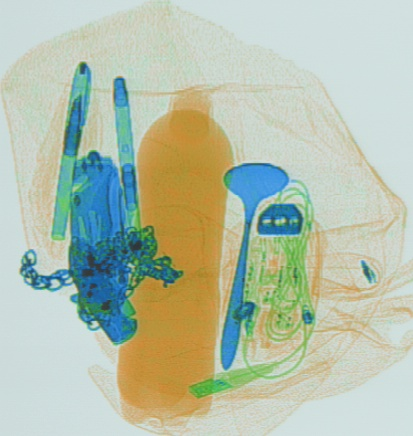knife: (62, 149, 130, 320), (67, 233, 137, 344)
